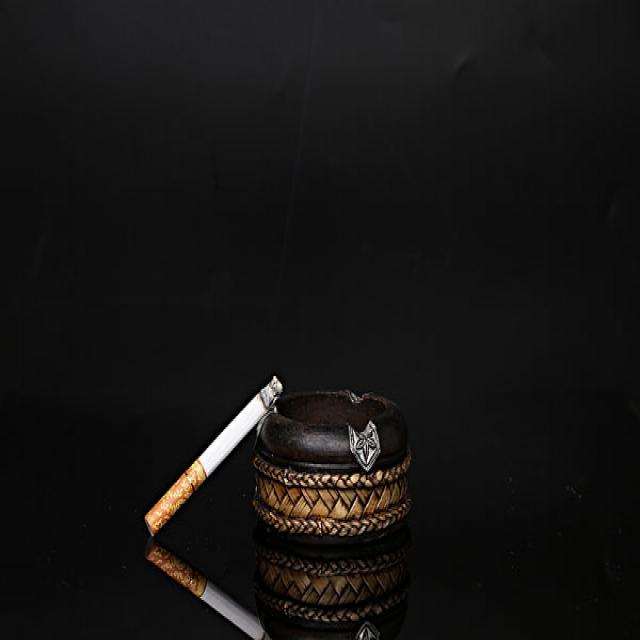smoking: (145, 374, 282, 538), (137, 545, 267, 636)
